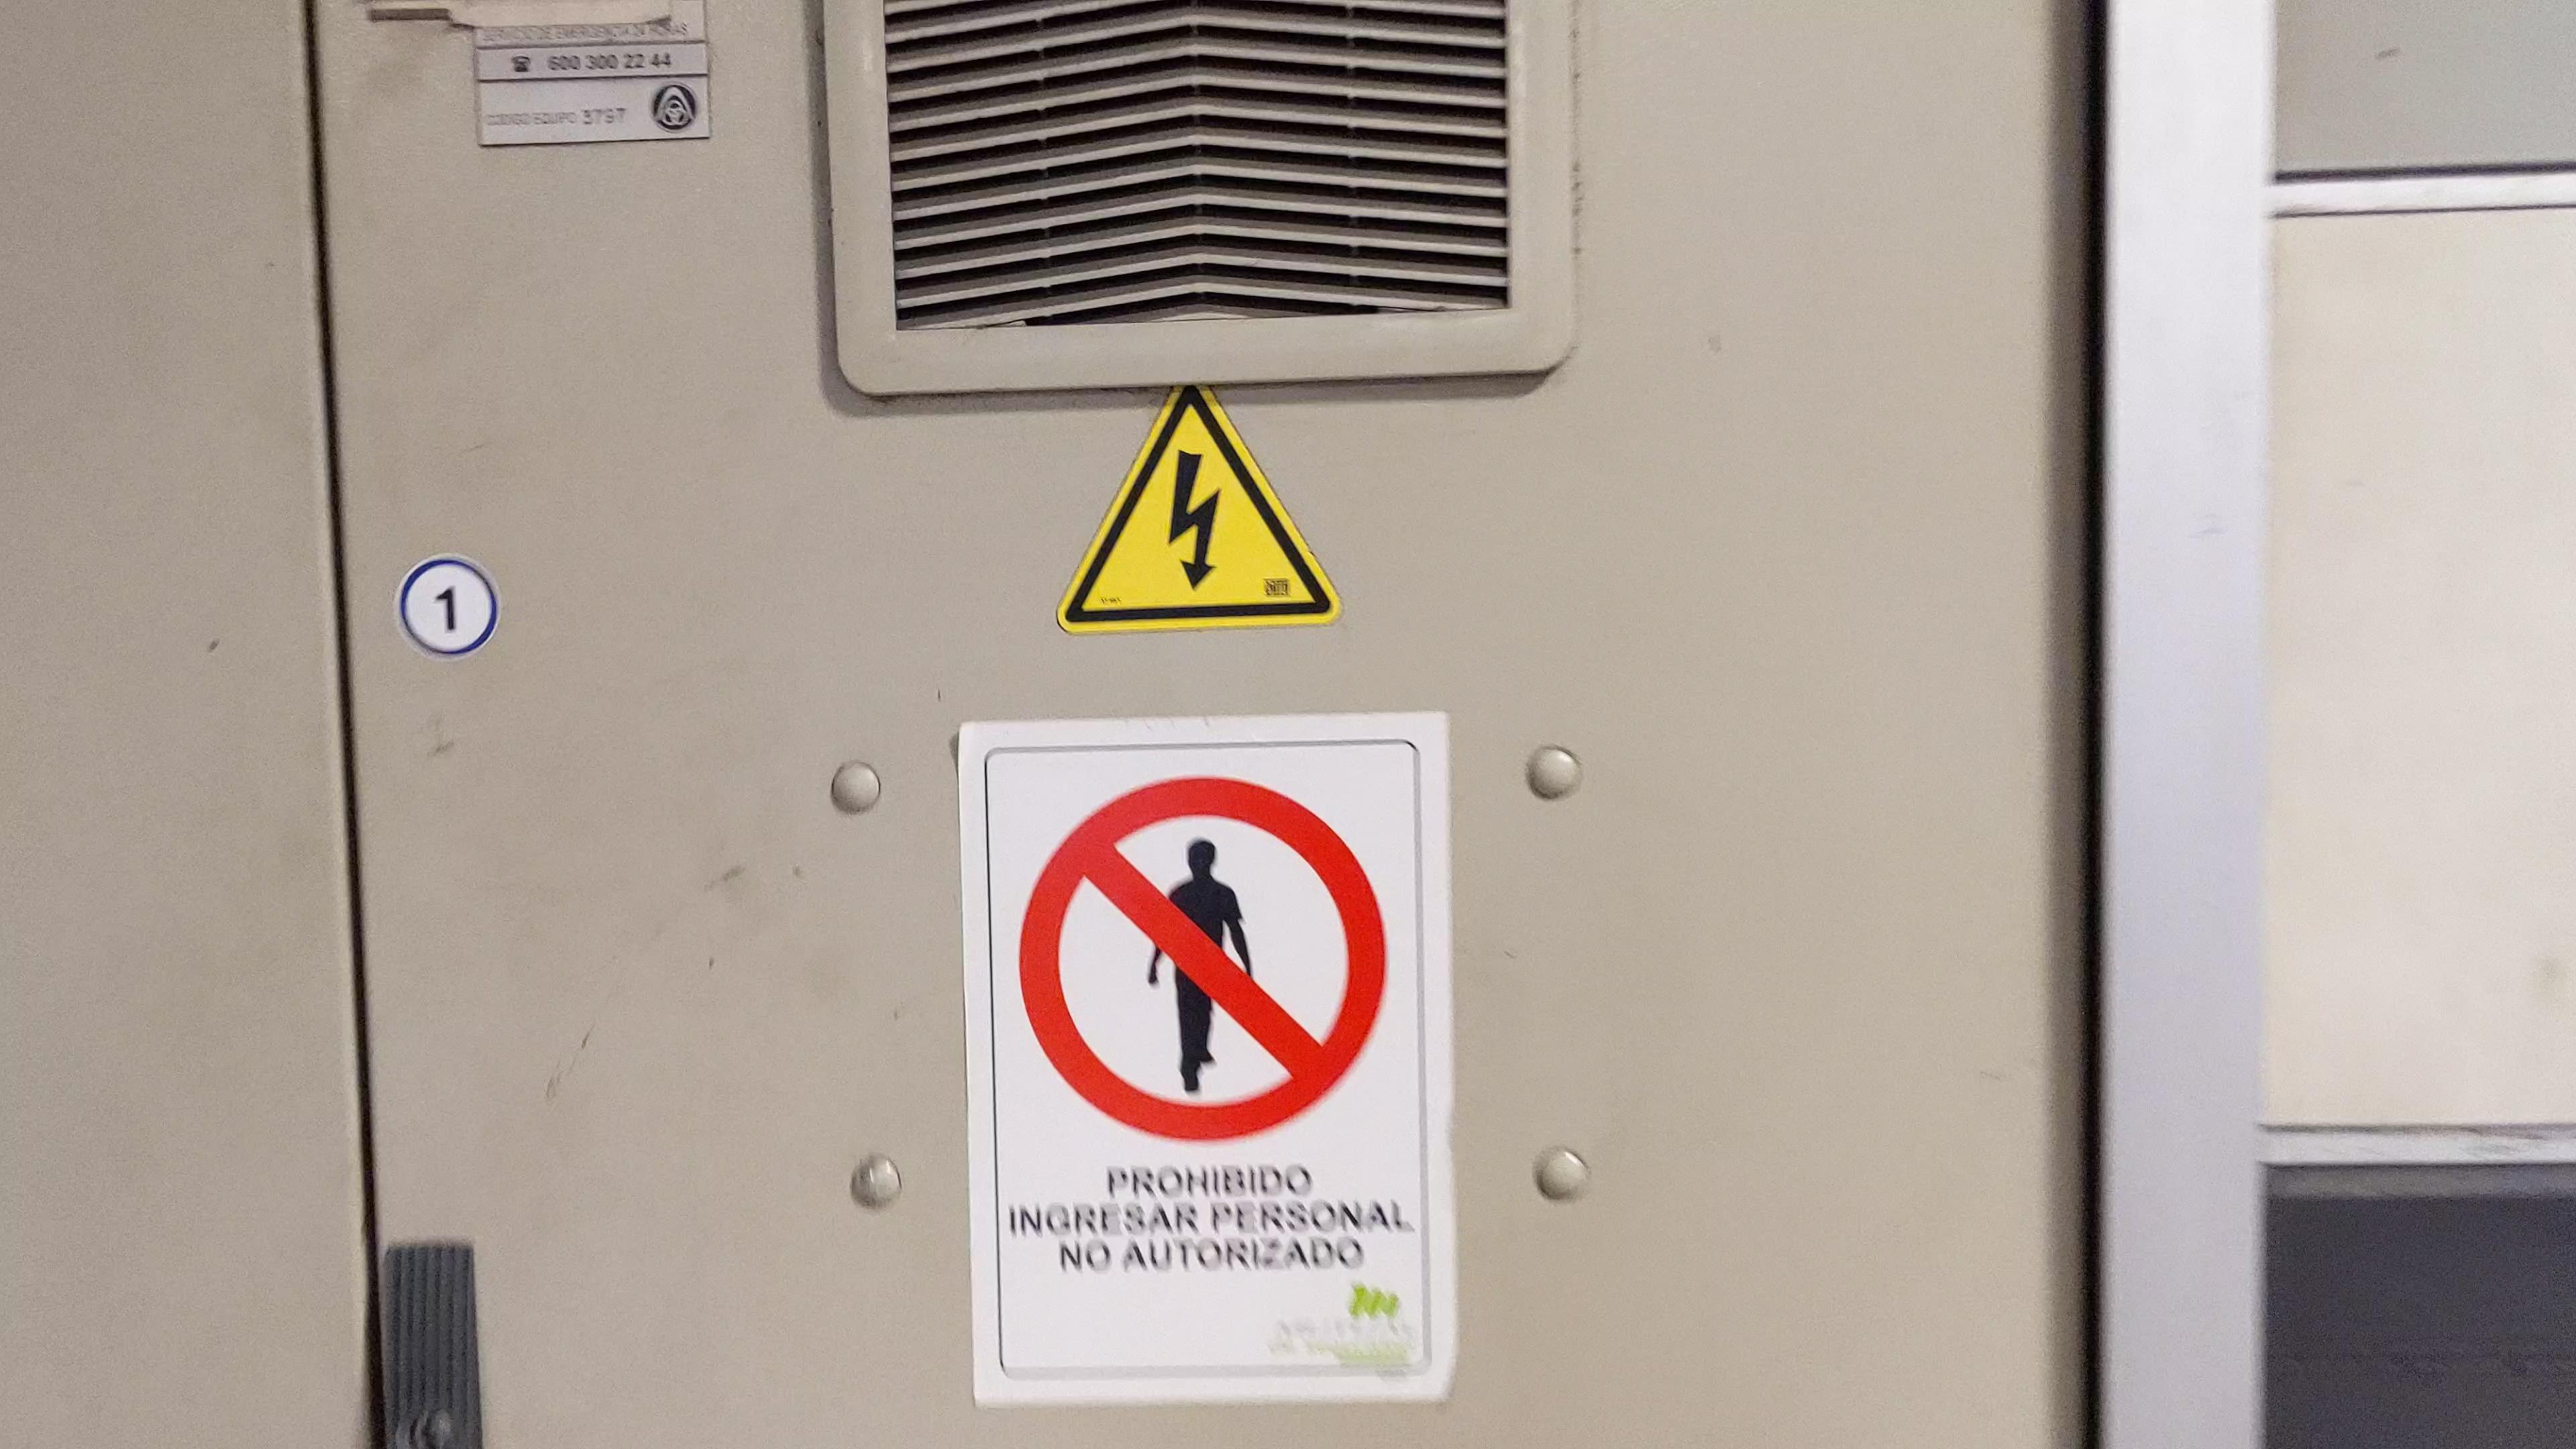danger-electricity: (1056, 382, 1339, 639)
